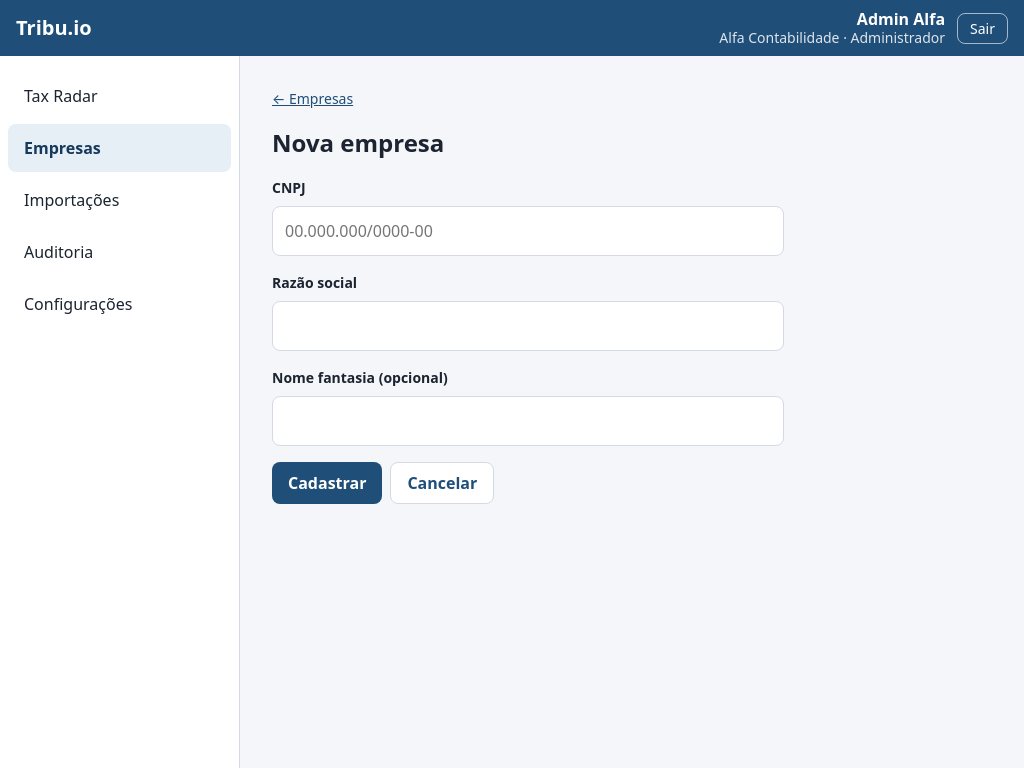
Test: empresas › cadastro mostra os erros por campo e, depois de corrigido, abre a empresa criada
Type "12abc34501de36" into the field labelled "CNPJ" at (528, 231), box x1=272 y1=206 x2=784 y2=256
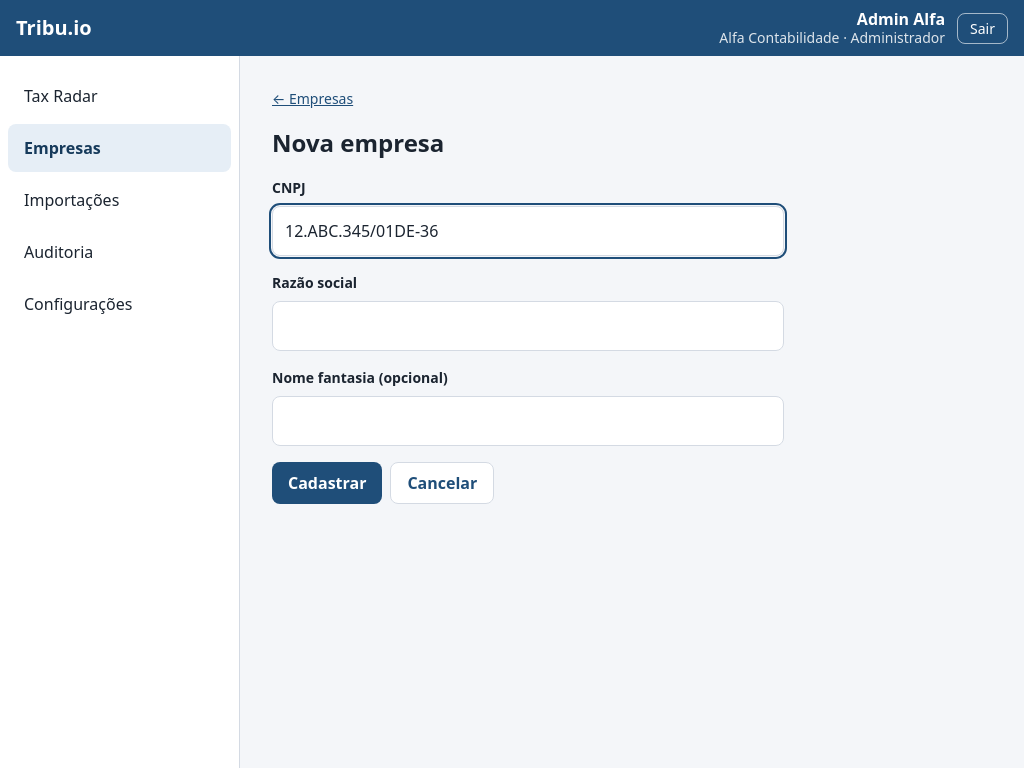
Expected: the field labelled "CNPJ" holds "12.ABC.345/01DE-36", x1=272 y1=206 x2=784 y2=256
Type "Oficina Exemplo Ltda" into the field labelled "Razão social" at (528, 326), box x1=272 y1=301 x2=784 y2=351
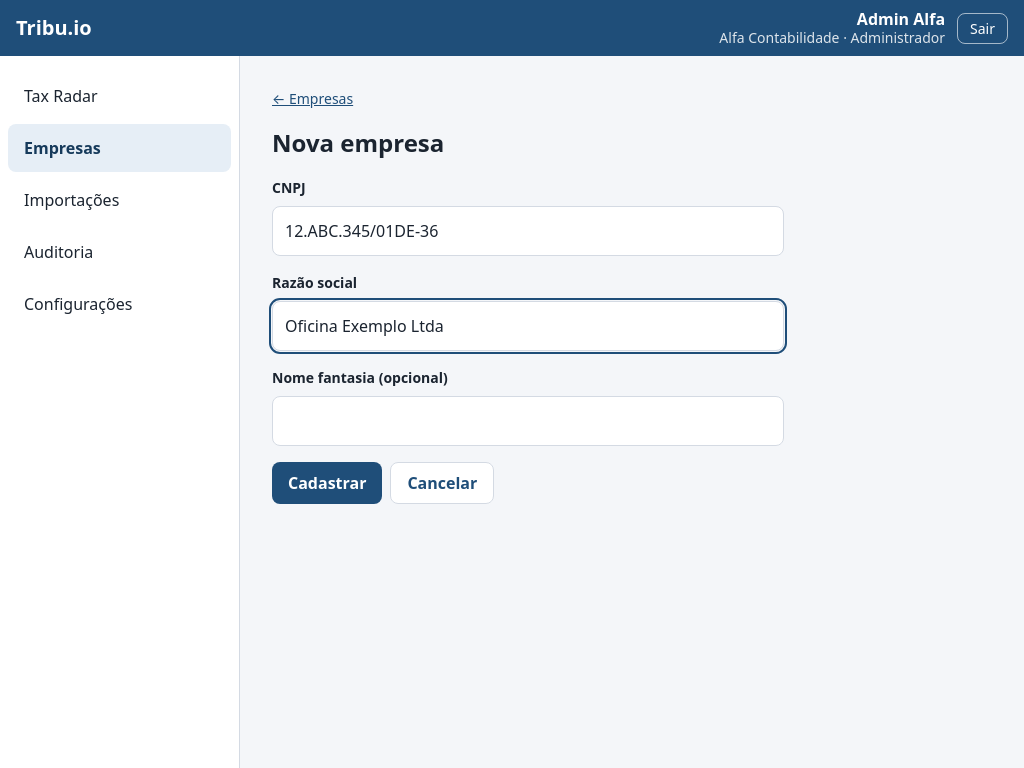
Click the button "Cadastrar" at (327, 483), box x1=272 y1=462 x2=382 y2=504
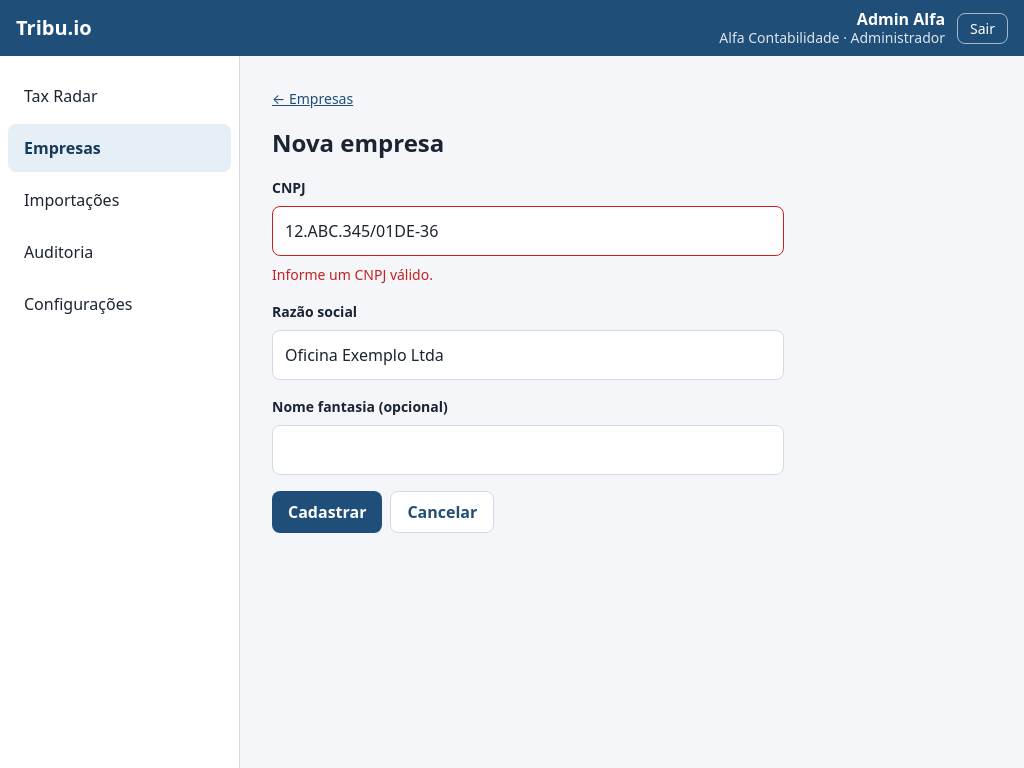
Expected: the text "Informe um CNPJ válido." is shown, x1=272 y1=265 x2=433 y2=284
Replace the text in the field labelled "CNPJ" with "12ABC34501DE35" at (528, 231), box x1=272 y1=206 x2=784 y2=256
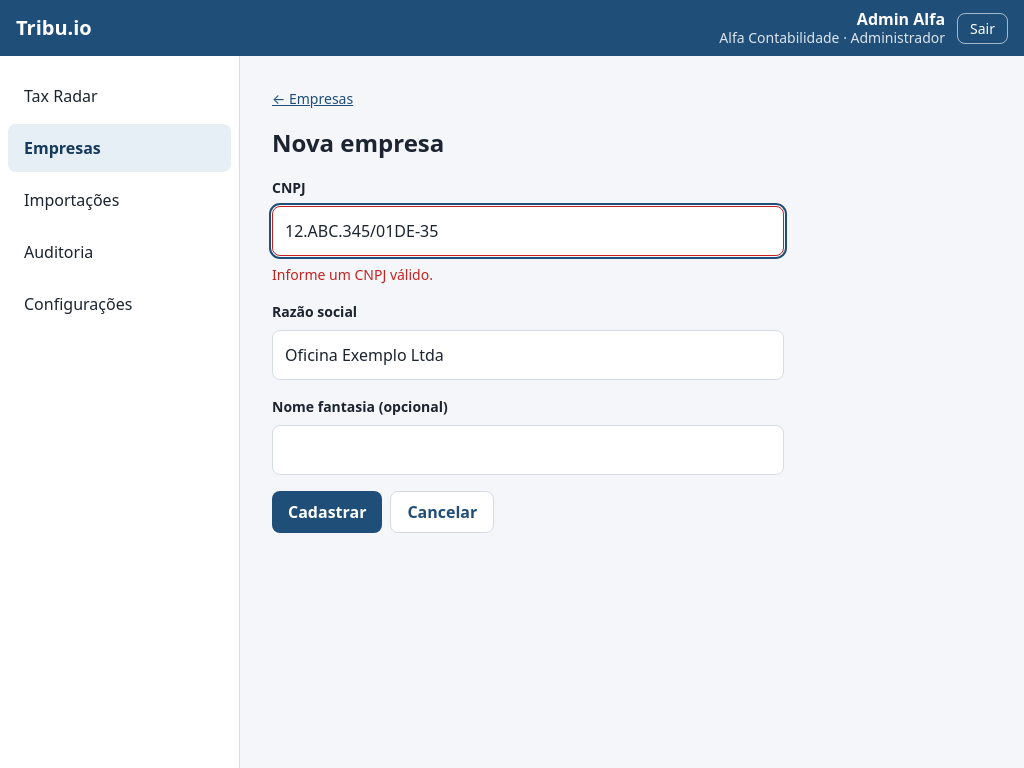
Click the button "Cadastrar" at (327, 512), box x1=272 y1=491 x2=382 y2=533
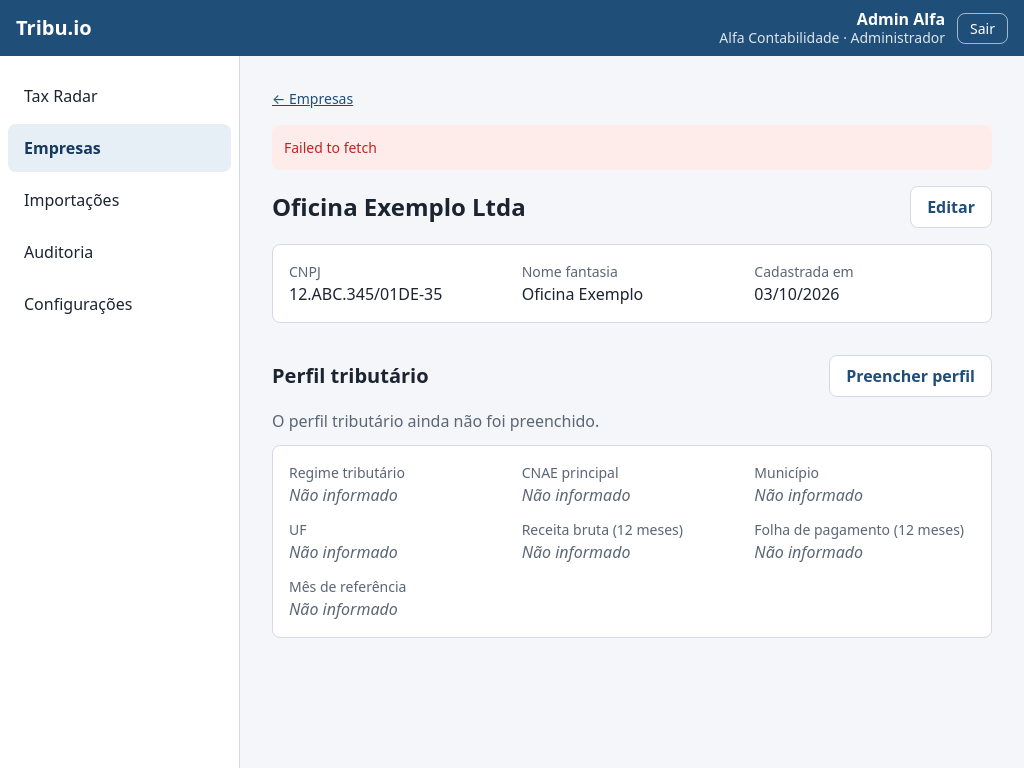
Expected: the heading "Oficina Exemplo Ltda" is shown, x1=272 y1=189 x2=526 y2=225
